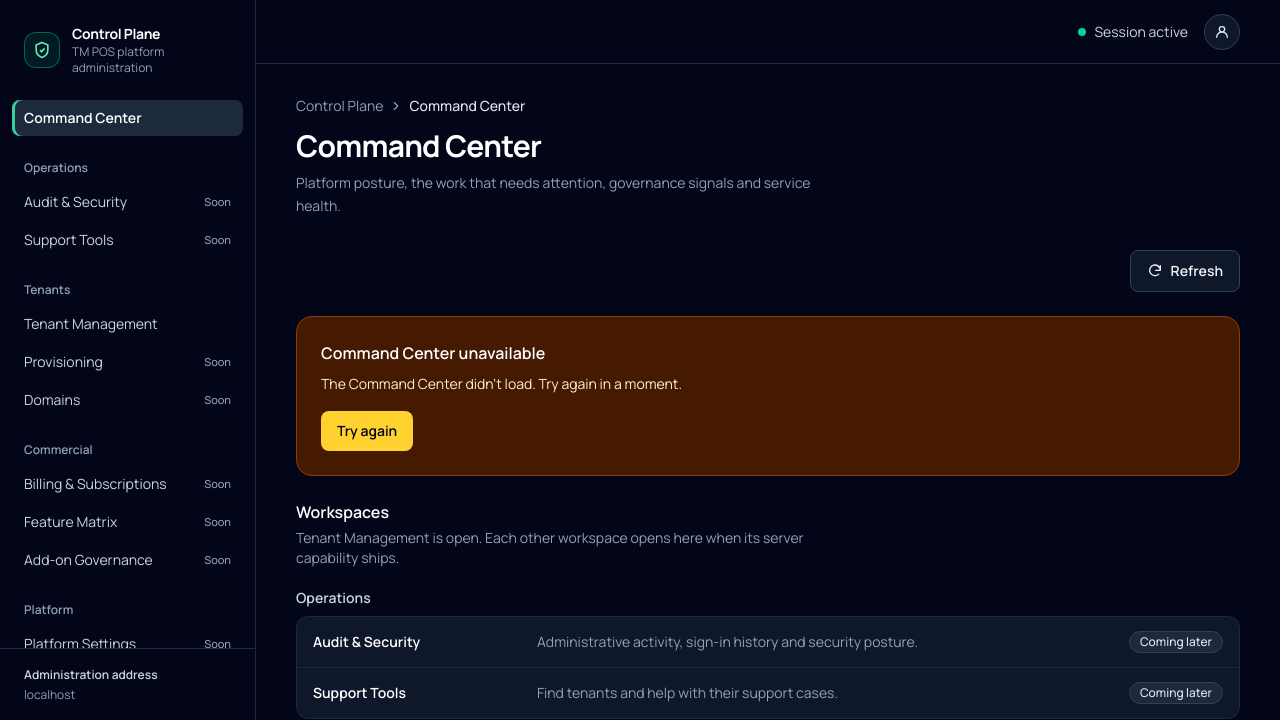
Test: Command Center › offers Try again after a 503, then moves focus to the page heading once it recovers
Expected: the text "The Command Center didn't load. Try again in a moment." is shown, [321, 374, 682, 392]
Expected: the element "Platform summary" is not shown
Click the button "Try again". click: (367, 431)
box: [321, 411, 413, 451]
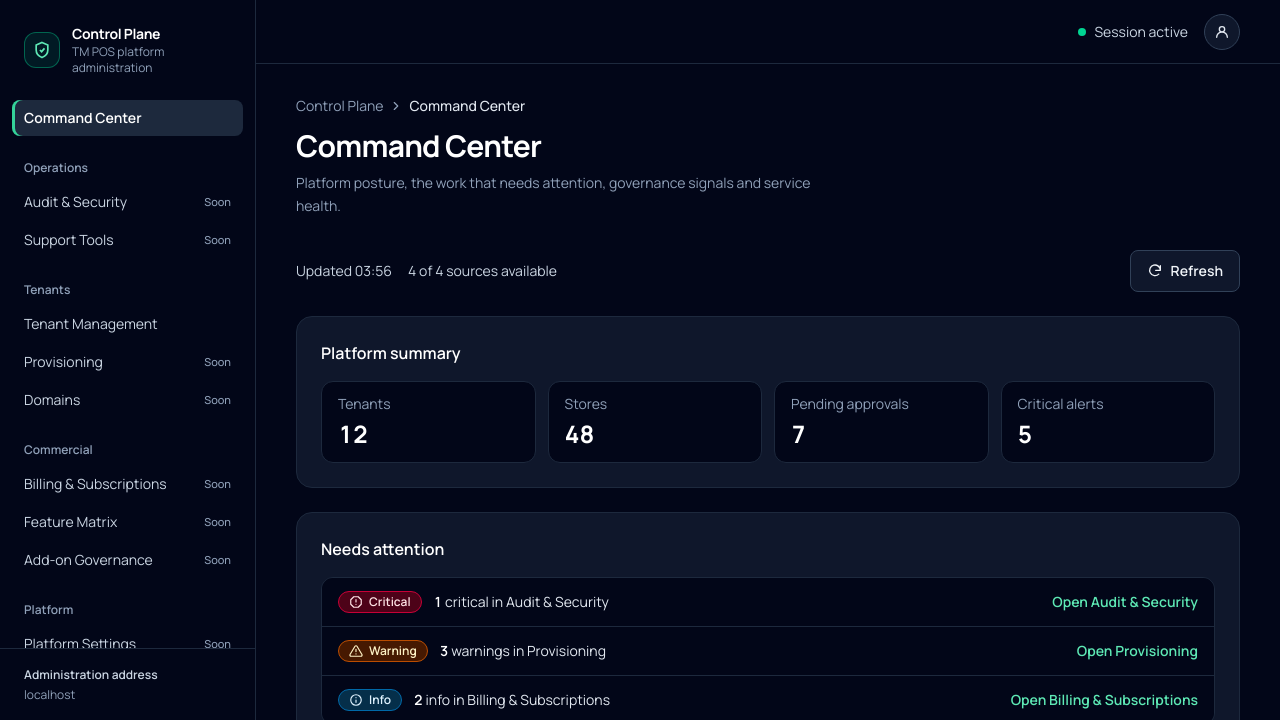
Expected: the element "Platform summary" is shown, [296, 316, 1240, 488]
Expected: the text "Try again" is gone
